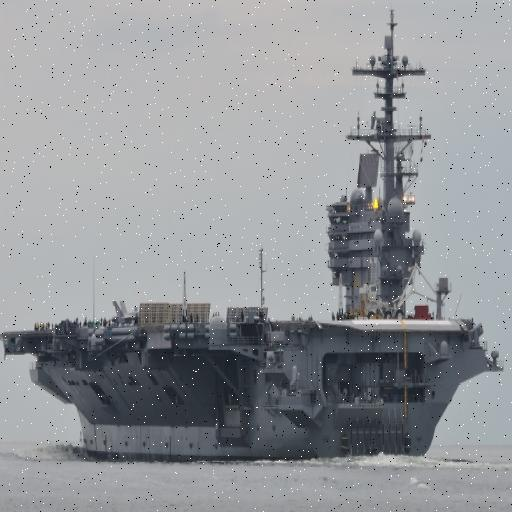Portanaves: (1, 1, 508, 463)
